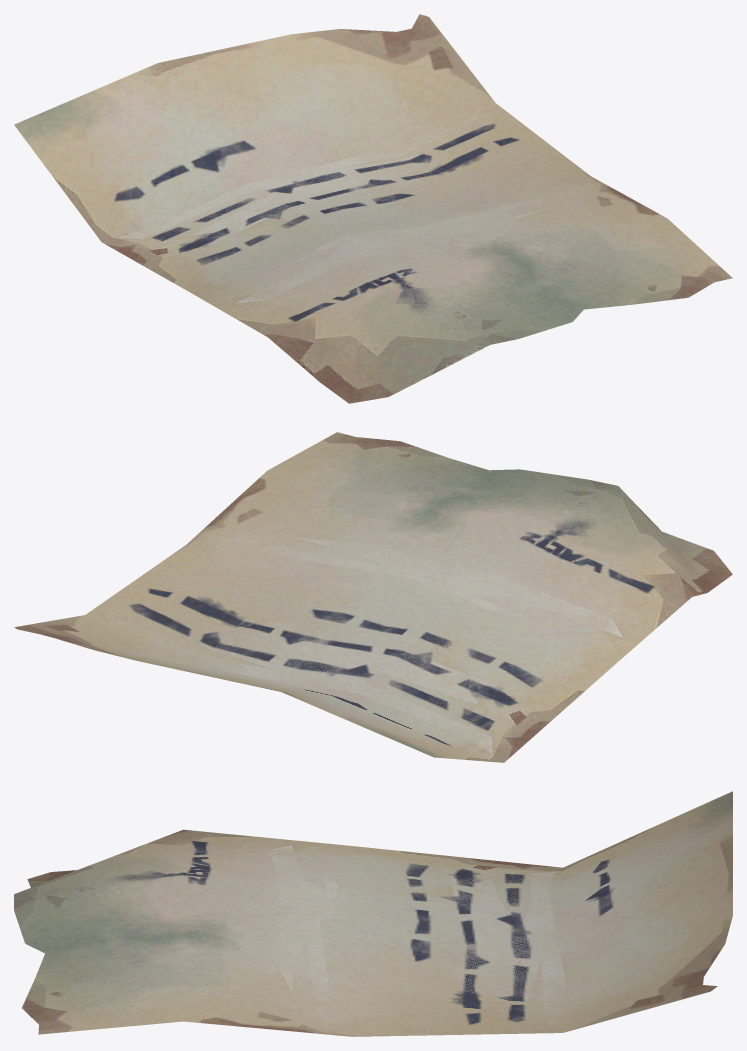
The model's file is GEAR_note1.fbx.
3 renders of one model, top to bottom at view 1: azimuth 30°, elevation 25°; view 2: azimuth 150°, elevation 25°; view 3: azimuth 270°, elevation 25°, orthographic. The views are drawn at different scales.
Parts seen in each view (by area): view 1: note1; view 2: note1; view 3: note1.
Part boxes in pixels (x1,y1,x2,y2): note1: [14, 14, 732, 403]; note1: [14, 432, 732, 762]; note1: [14, 791, 732, 1036].
Size of the model in its own units: 15.31 by 3.27 by 21.28.
Materials: 1 (1 with a texture image).
